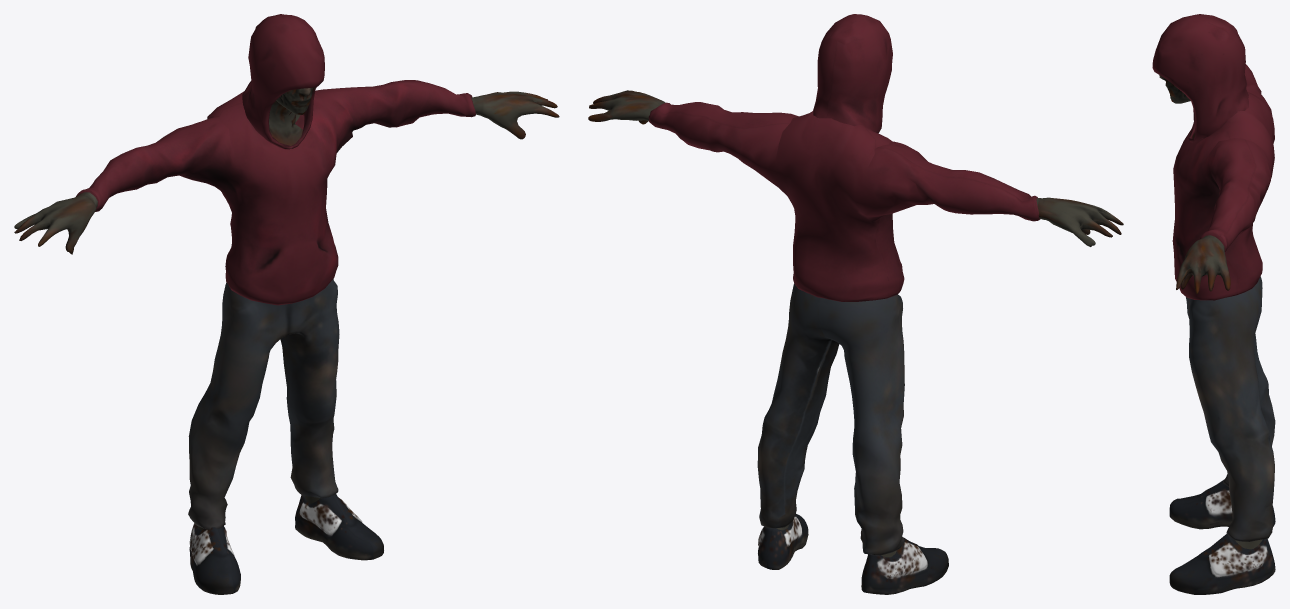
File: Sprinter.fbx
3 renders of one model, left to right at view 1: azimuth 30°, elevation 25°; view 2: azimuth 150°, elevation 25°; view 3: azimuth 270°, elevation 25°, orthographic. The views are drawn at different scales.
Visible parts, largest first — view 1: Sprinter1; view 2: Sprinter1; view 3: Sprinter1.
Part boxes in pixels (x1,y1,x2,y2): Sprinter1: (14,14,559,594); Sprinter1: (588,14,1123,594); Sprinter1: (1152,14,1275,594).
Bounding box in the file's own units: 180 × 177 × 36.62.
Materials: 1 (1 with a texture image).
